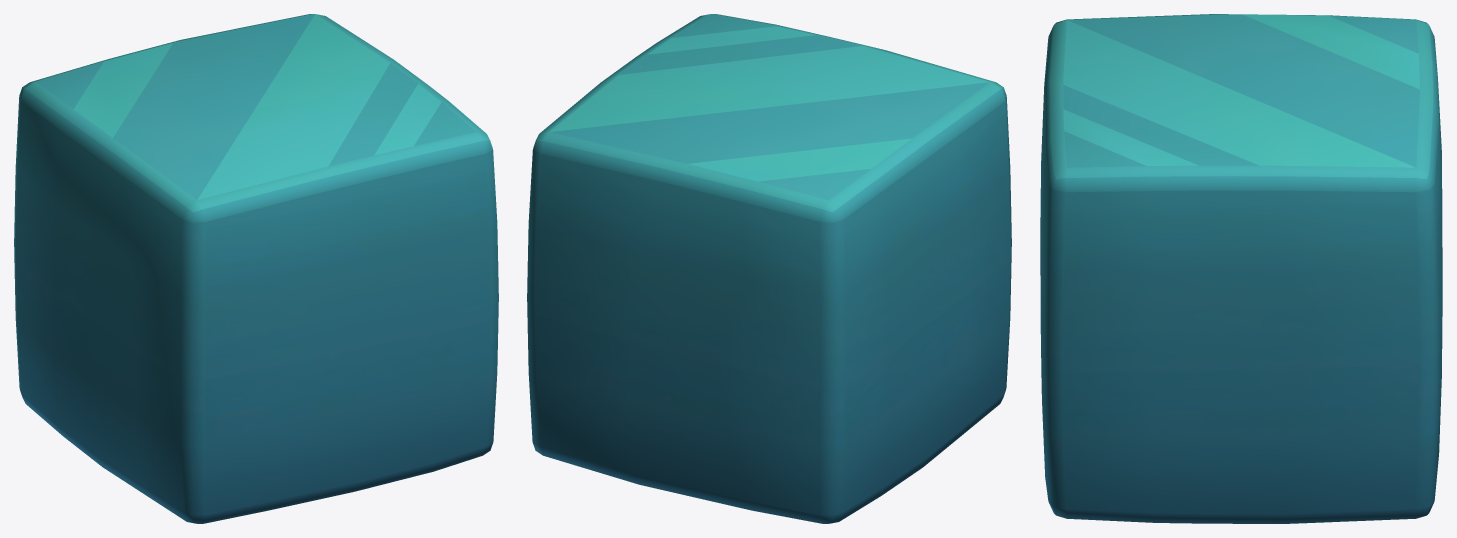
The model's file is ice_cube_3.fbx.
The picture shows the model from 3 angles, left to right: view 1: azimuth 30°, elevation 25°; view 2: azimuth 150°, elevation 25°; view 3: azimuth 270°, elevation 25°; orthographic projection. The views are drawn at different scales.
Visible parts, largest first — view 1: Ice_block_3_LOD0; view 2: Ice_block_3_LOD0; view 3: Ice_block_3_LOD0.
Part boxes in pixels (x1,y1,x2,y2): Ice_block_3_LOD0: (14,14,498,523); Ice_block_3_LOD0: (527,14,1011,523); Ice_block_3_LOD0: (1040,14,1442,523).
Size of what is drawn, in the model's own units: 108 by 108 by 109.
